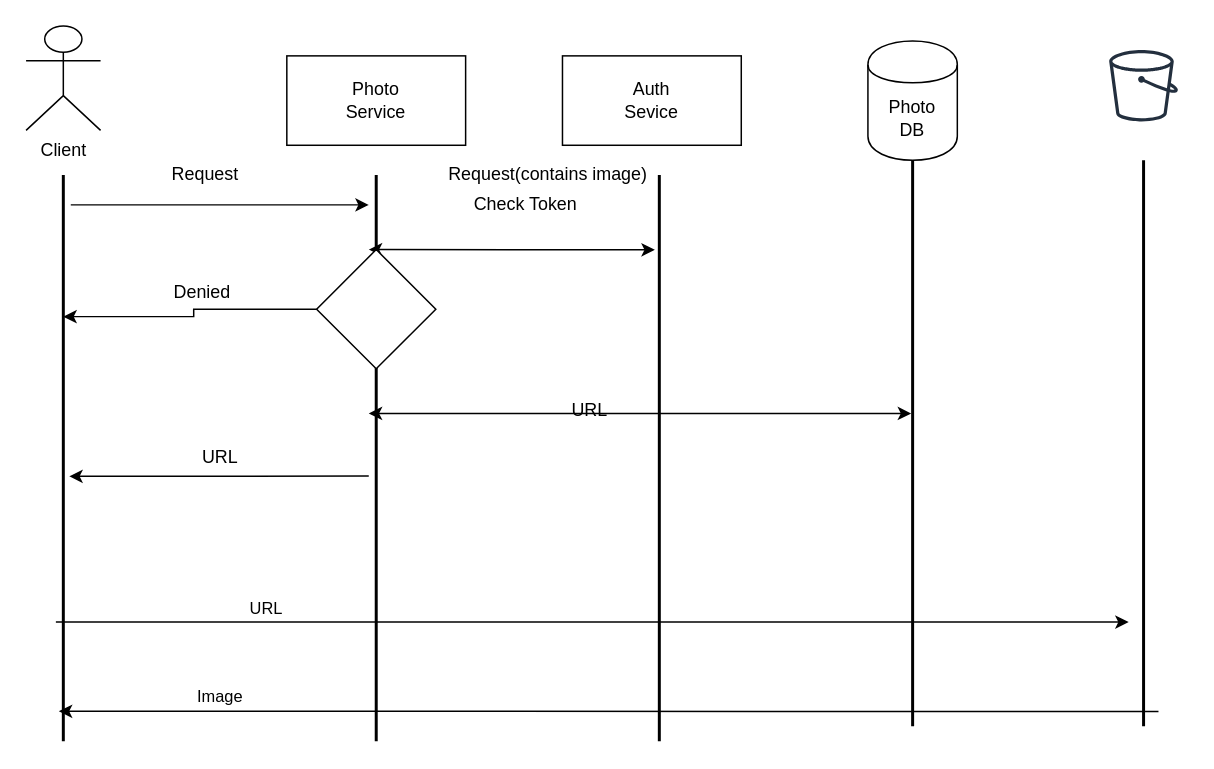
The diagram is 1214 pixels wide and 769 high, and some of its shapes have lost their labels. Here are the shapes that lost their labels. From the top down, the centre of each, then its label:
At point 1142,84: "gcloud".
At point 375,308: "Token valid".
